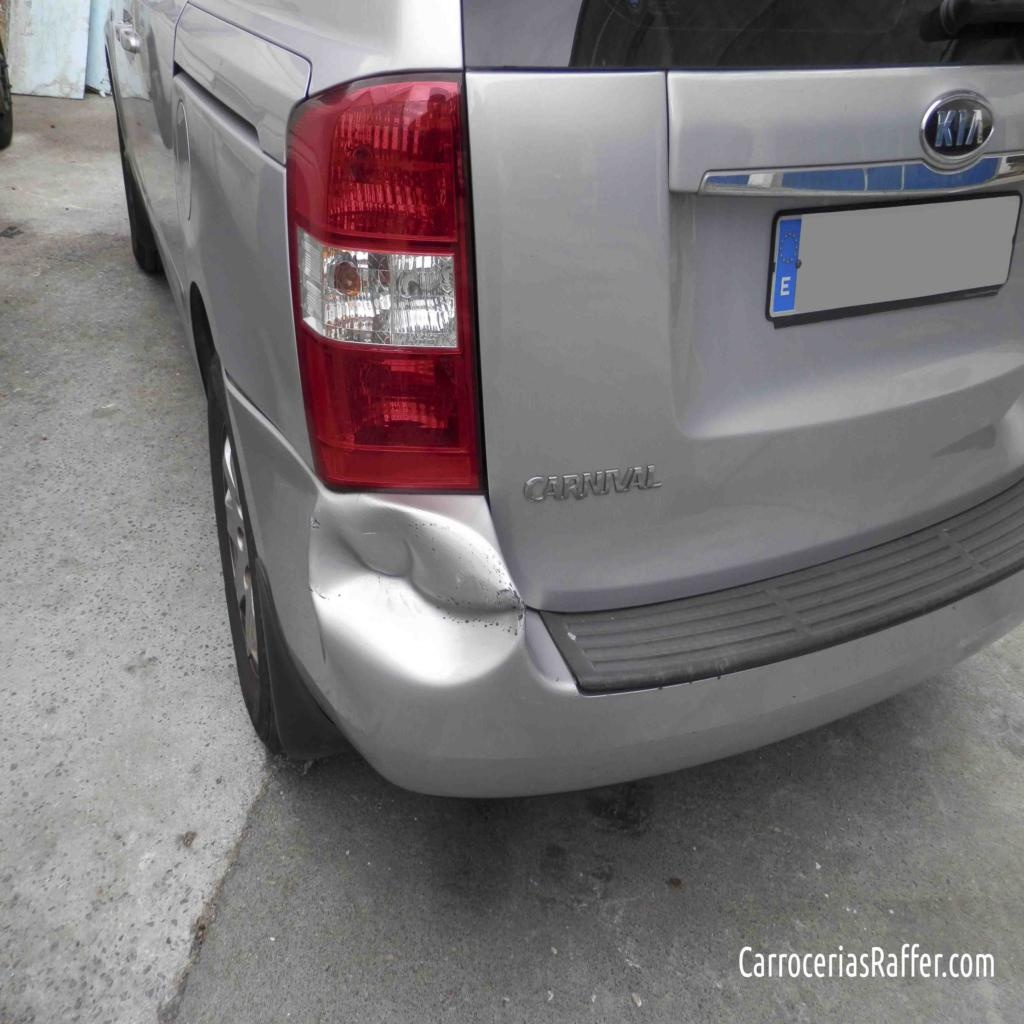Dent: (300, 491, 534, 695)
